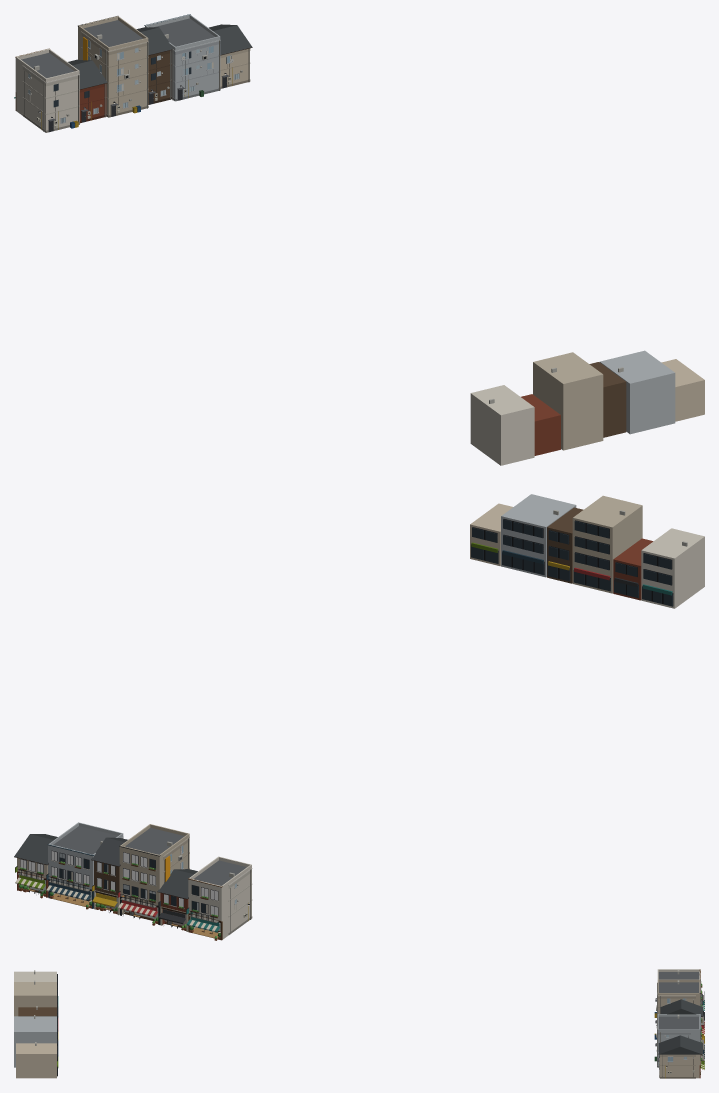
Rendered from boutique.glb.
3 views of the same model, one above another, from view 1: azimuth 30°, elevation 25°; view 2: azimuth 150°, elevation 25°; view 3: azimuth 270°, elevation 25° (orthographic). The views are drawn at different scales.
Parts seen in each view (by area): view 1: boutique_c_lo_mesh, boutique_c_body, boutique_a_body, boutique_a_lo_mesh, boutique_e_body, boutique_e_lo_mesh, boutique_f_body, boutique_d_body, boutique_b_body, boutique_f_lo_mesh, boutique_d_lo_mesh, boutique_b_lo_mesh; view 2: boutique_c_lo_mesh, boutique_c_body, boutique_a_body, boutique_a_lo_mesh, boutique_e_lo_mesh, boutique_e_body, boutique_d_body, boutique_f_body, boutique_d_lo_mesh, boutique_f_lo_mesh, boutique_b_body, boutique_b_lo_mesh; view 3: boutique_f_body, boutique_f_lo_mesh, boutique_e_lo_mesh, boutique_e_body, boutique_c_body, boutique_c_lo_mesh, boutique_a_body, boutique_d_body, boutique_a_lo_mesh, boutique_d_lo_mesh.
Part boxes in pixels (x1,y1,x2,y2): boutique_c_lo_mesh: (533,352,603,450); boutique_c_body: (78,16,148,117); boutique_a_body: (14,48,79,132); boutique_a_lo_mesh: (470,385,534,465); boutique_e_body: (144,14,220,101); boutique_e_lo_mesh: (600,350,675,434); boutique_f_body: (209,24,252,88); boutique_d_body: (136,27,172,104); boutique_b_body: (68,59,107,123); boutique_f_lo_mesh: (661,359,704,421); boutique_d_lo_mesh: (589,362,626,437); boutique_b_lo_mesh: (521,394,560,455); boutique_c_lo_mesh: (572,495,642,593); boutique_c_body: (118,824,189,925); boutique_a_body: (186,856,252,940); boutique_a_lo_mesh: (641,528,704,608); boutique_e_lo_mesh: (501,494,576,577); boutique_e_body: (46,822,123,909); boutique_d_body: (91,837,127,915); boutique_f_body: (14,834,57,898); boutique_d_lo_mesh: (547,507,583,583); boutique_f_lo_mesh: (470,503,512,566); boutique_b_body: (157,869,197,931); boutique_b_lo_mesh: (613,538,653,600); boutique_f_body: (657,1035,704,1078); boutique_f_lo_mesh: (16,1042,58,1078); boutique_e_lo_mesh: (14,1015,58,1067); boutique_e_body: (654,1014,704,1067); boutique_c_body: (654,979,704,1039); boutique_c_lo_mesh: (14,980,58,1031); boutique_a_body: (654,969,704,1017); boutique_d_body: (660,999,704,1043); boutique_a_lo_mesh: (14,970,58,1007); boutique_d_lo_mesh: (18,1006,58,1040).
Bounding box in the file's own units: 40.07 × 12.8 × 161.
